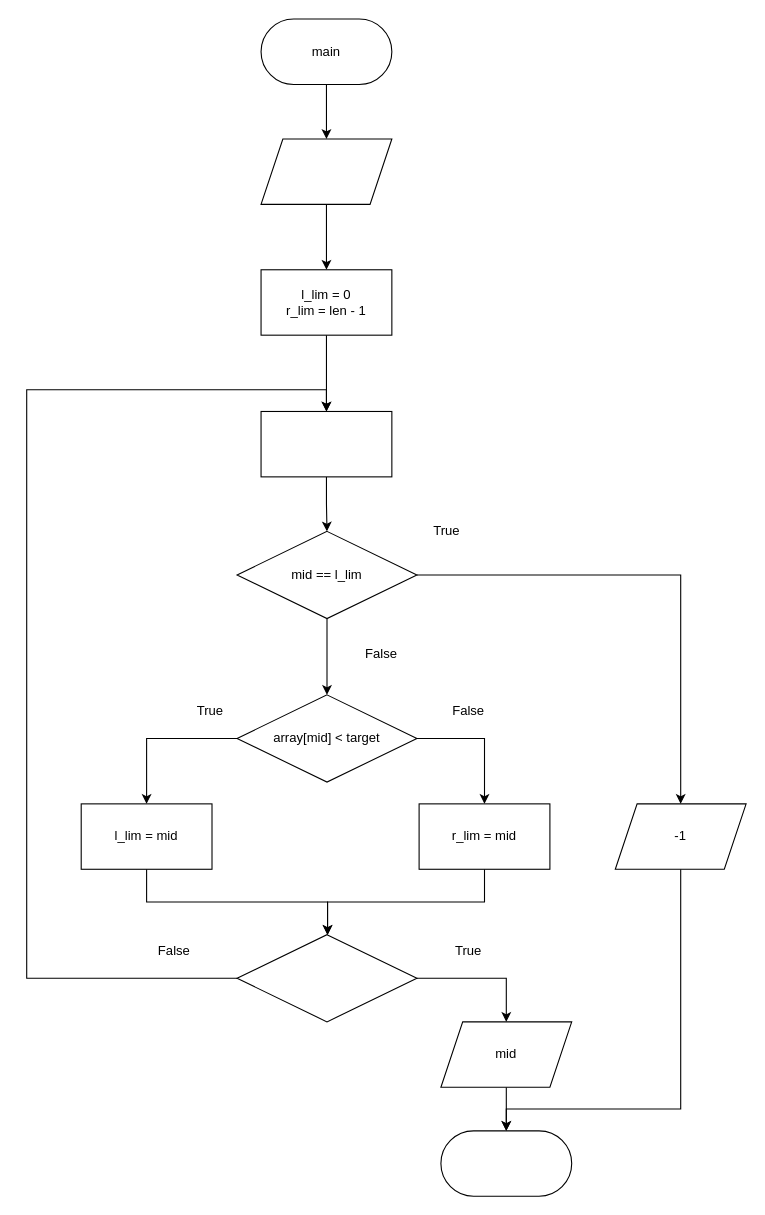
Some shapes in this 765 by 1215 pixel diagram are drawn without their labels. Each missing label, with the centre of its shape:
"array, len, target" belongs at pixel 326 171.
"array[mid] == target" belongs at pixel 326 978.
"end" belongs at pixel 506 1163.
"mid = floor((r_lim + l+lim) / 2)" belongs at pixel 326 443.
